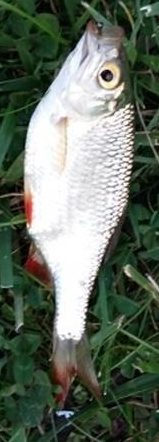Scardinius erythrophthalmus: (20, 20, 139, 422)
